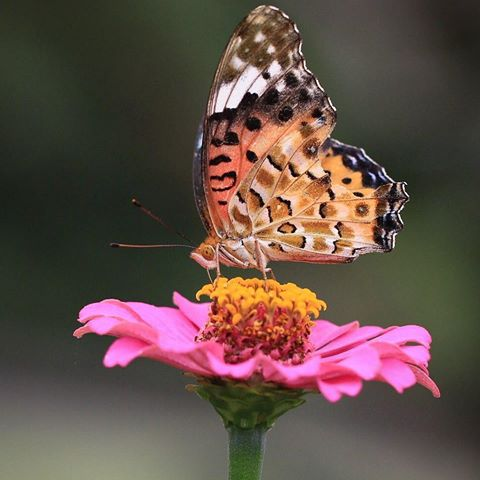Argyreus hyperbius: (105, 2, 414, 289)
butterfly: (107, 4, 416, 291)
